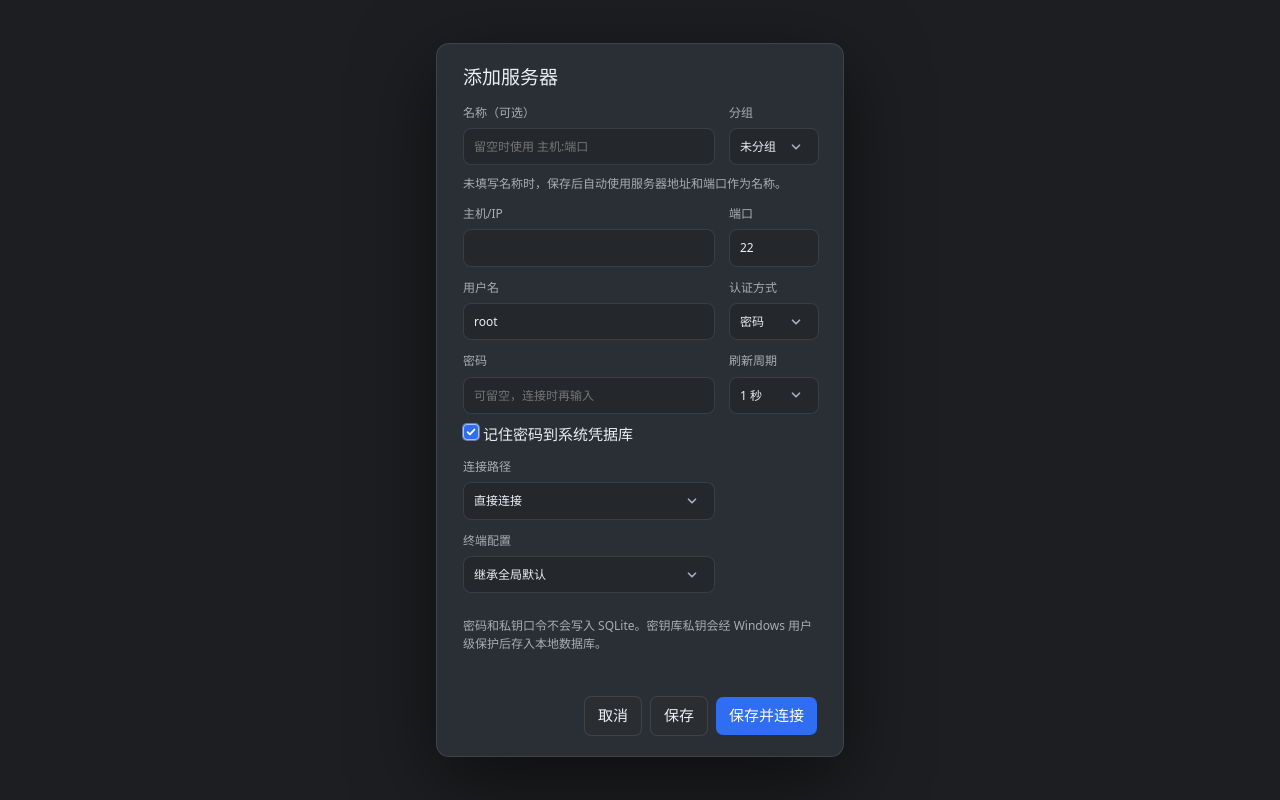
Test: ConnectionDialog › renders selected key-vault details as a compact two-line preview
Select "SSH 私钥" in the dropdown with test id "auth-type" at (774, 322), box left=729, top=303, right=819, bottom=340
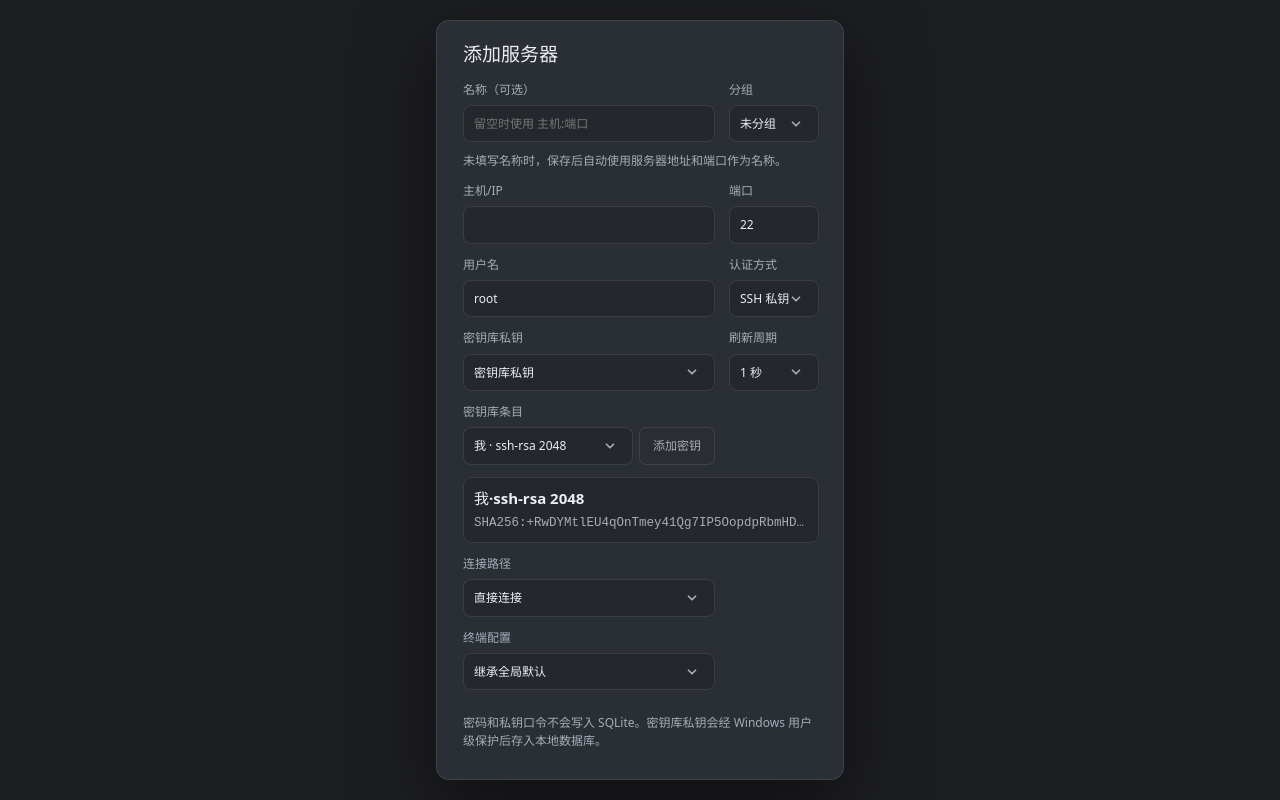
Result: the text "我·ssh-rsa 2048" is shown at left=474, top=488, right=584, bottom=508
Result: the text "SHA256:+RwDYMtlEU4qOnTmey41Qg7IP5OopdpRbmHDfr1PTDQ" is shown at left=474, top=514, right=808, bottom=532
